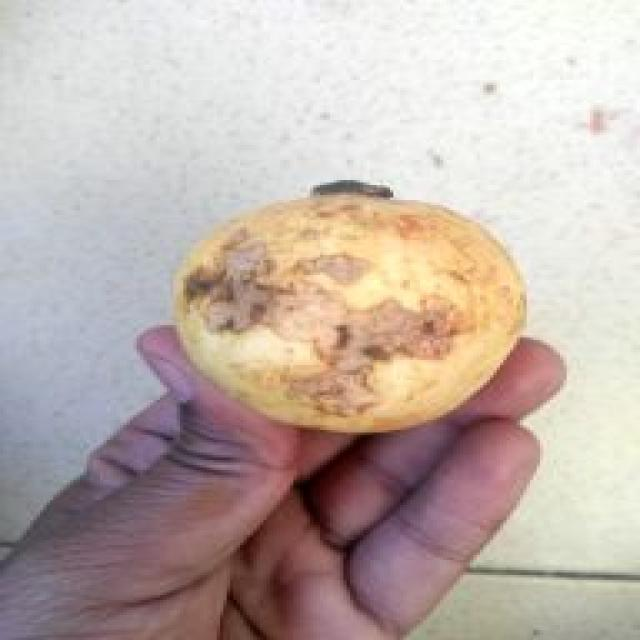Bad_Guava: (177, 194, 523, 432)
